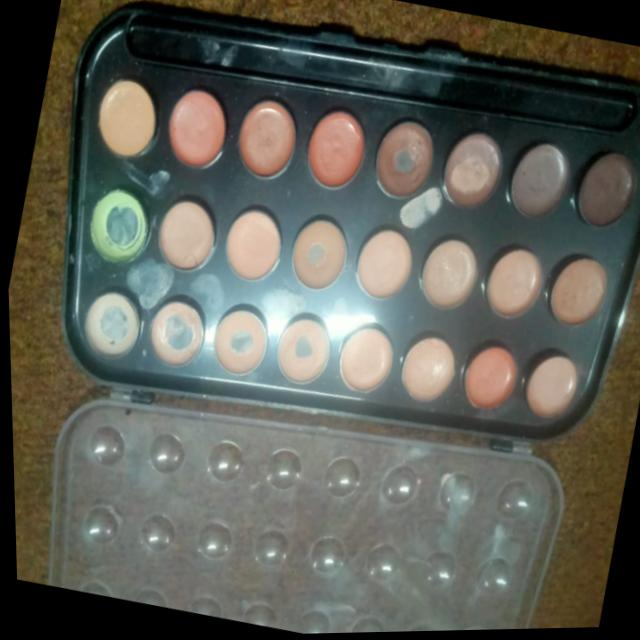eye shade: (434, 121, 516, 225), (561, 139, 640, 243), (133, 287, 220, 381), (364, 109, 445, 207), (502, 134, 574, 225), (388, 326, 460, 416), (80, 183, 157, 264), (263, 313, 340, 391), (79, 283, 147, 367), (330, 320, 401, 398), (208, 302, 277, 373)
lip shade: (154, 74, 239, 183), (292, 97, 375, 205), (511, 335, 591, 445), (222, 93, 304, 196), (449, 331, 526, 424), (88, 71, 168, 160), (145, 191, 224, 281), (212, 207, 289, 294), (539, 248, 609, 340), (474, 245, 547, 330), (412, 231, 482, 317), (345, 223, 419, 301), (285, 212, 350, 299)
